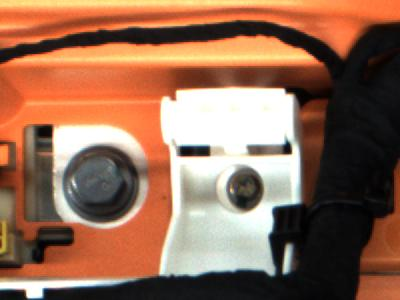nut_b: (59, 144, 142, 222)
